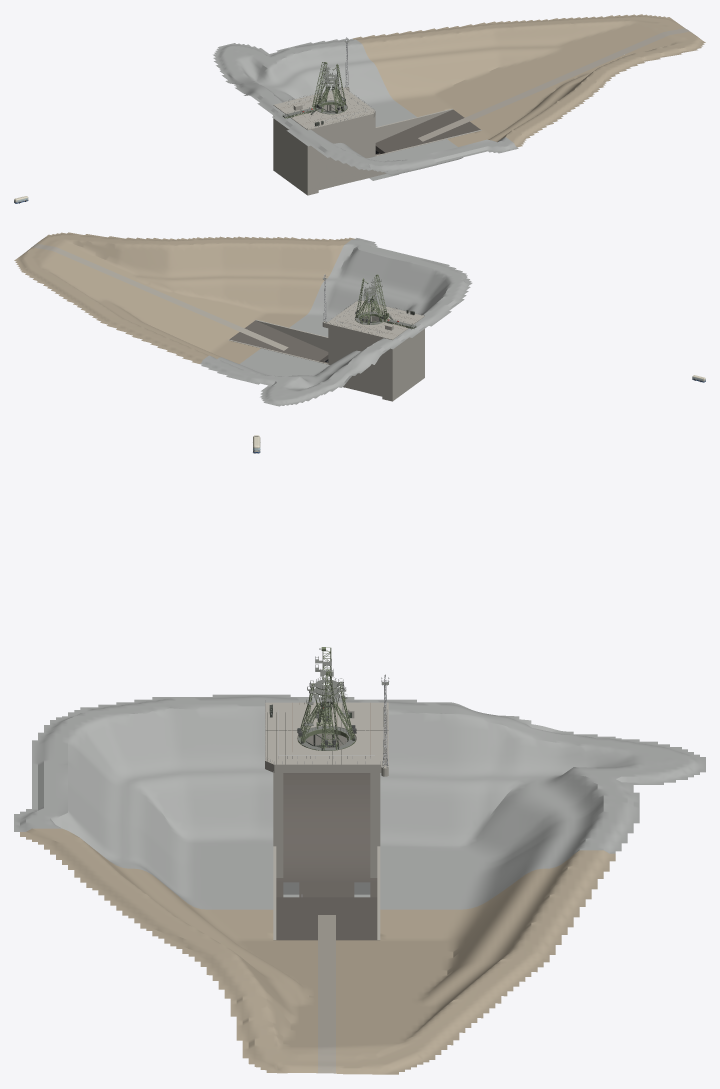
The model's file is pad.glb.
The picture shows the model from 3 angles, top to bottom: view 1: azimuth 30°, elevation 25°; view 2: azimuth 150°, elevation 25°; view 3: azimuth 270°, elevation 25°; orthographic projection. The views are drawn at different scales.
Parts seen in each view (by area): view 1: FlamePit_Earth, FlamePit_Lining, Platform_ConcretePylons, Platform_Concrete, FlamePit_Road, FlamePit_Scorch, FlamePit_ScorchSump; view 2: FlamePit_Earth, FlamePit_Lining, Platform_ConcretePylons, Platform_Concrete, FlamePit_Road, FlamePit_Scorch, FlamePit_ScorchSump; view 3: FlamePit_Lining, FlamePit_Earth, FlameDeflector_Scorch, Platform_Concrete, Platform_ConcretePylons, FlamePit_Scorch, FlamePit_Road, FlamePit_ScorchSump.
Boxes of the visible parts, left/top/right/bottom form: FlamePit_Earth: left=352, top=14, right=705, bottom=147; FlamePit_Lining: left=213, top=38, right=518, bottom=175; Platform_ConcretePylons: left=273, top=102, right=481, bottom=195; Platform_Concrete: left=284, top=87, right=375, bottom=131; FlamePit_Road: left=418, top=28, right=690, bottom=141; FlamePit_Scorch: left=375, top=109, right=480, bottom=155; FlamePit_ScorchSump: left=375, top=130, right=424, bottom=153; FlamePit_Earth: left=14, top=232, right=354, bottom=363; FlamePit_Lining: left=200, top=238, right=472, bottom=406; Platform_ConcretePylons: left=228, top=313, right=424, bottom=401; Platform_Concrete: left=322, top=301, right=411, bottom=340; FlamePit_Road: left=31, top=244, right=288, bottom=350; FlamePit_Scorch: left=229, top=320, right=328, bottom=363; FlamePit_ScorchSump: left=282, top=339, right=328, bottom=362; FlamePit_Lining: left=14, top=694, right=705, bottom=909; FlamePit_Earth: left=20, top=828, right=615, bottom=1074; FlameDeflector_Scorch: left=276, top=773, right=377, bottom=882; Platform_Concrete: left=265, top=712, right=388, bottom=776; Platform_ConcretePylons: left=265, top=702, right=388, bottom=940; FlamePit_Scorch: left=276, top=882, right=377, bottom=940; FlamePit_Road: left=318, top=915, right=335, bottom=1073; FlamePit_ScorchSump: left=276, top=897, right=377, bottom=914.
Size of the model in its own units: 481 by 85.22 by 230.
